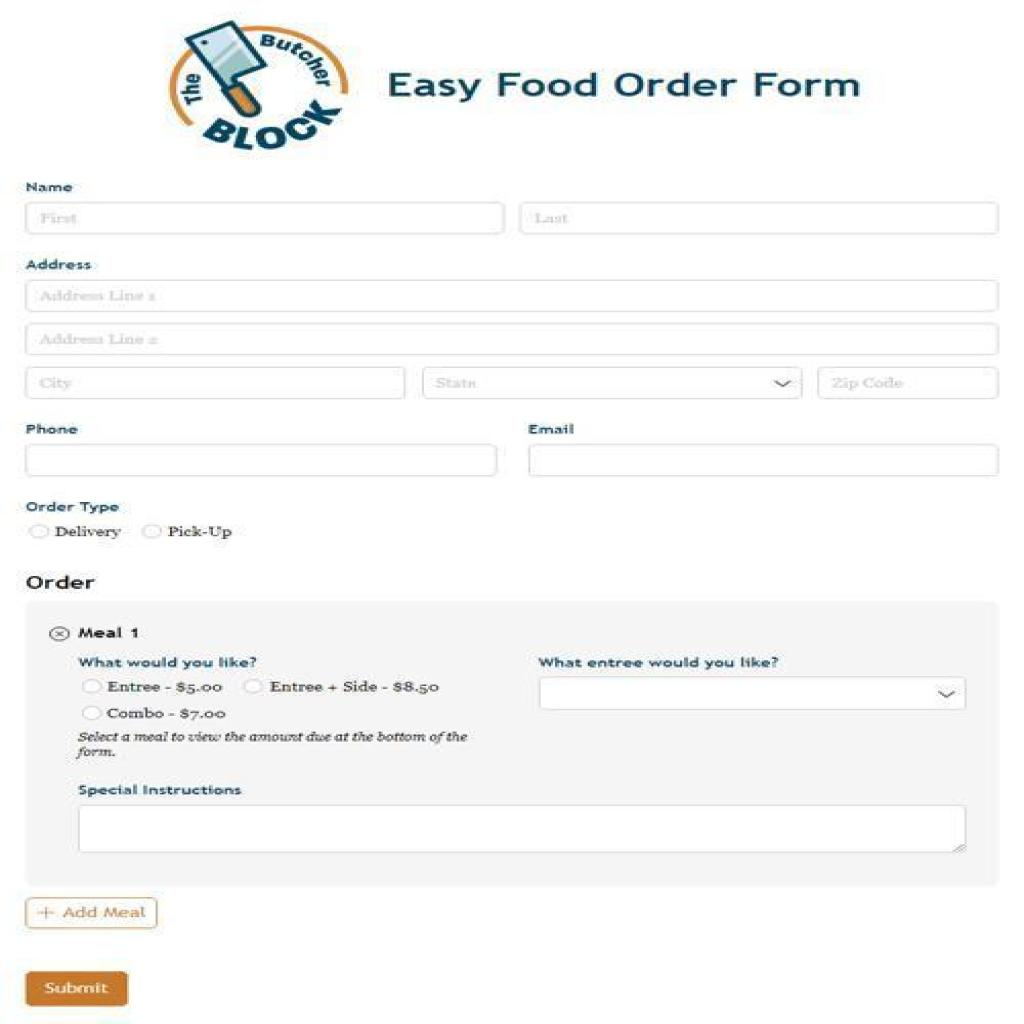button: (24, 897, 156, 927), (27, 971, 127, 1004)
dropdown: (540, 676, 966, 710), (422, 368, 799, 396)
icon: (45, 624, 74, 644)
input: (78, 806, 960, 853), (24, 279, 998, 311), (26, 322, 998, 352), (24, 202, 504, 236), (518, 202, 998, 236), (24, 445, 496, 476), (528, 445, 1000, 475), (26, 368, 406, 398), (820, 368, 998, 399)
label: (536, 655, 782, 673), (78, 784, 250, 802), (268, 679, 440, 694), (74, 656, 262, 669), (106, 706, 228, 724), (106, 679, 228, 694), (18, 499, 123, 512), (18, 258, 96, 273), (78, 625, 141, 643), (524, 422, 582, 439), (168, 524, 233, 539), (24, 178, 76, 196), (20, 422, 82, 437), (57, 528, 123, 539)
radio: (139, 522, 162, 541), (27, 522, 49, 541), (80, 706, 104, 722), (242, 679, 264, 694), (82, 680, 102, 693)
